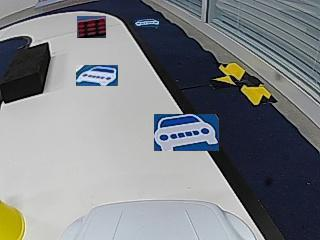block: (1, 42, 50, 103)
cone: (0, 202, 25, 239)
